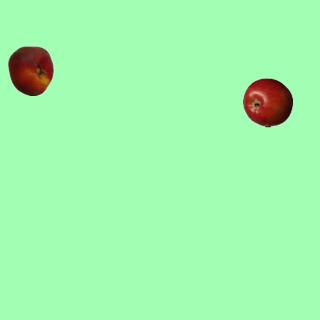Apple Braeburn: (242, 77, 292, 127)
Nectarine Flat: (5, 45, 55, 95)
